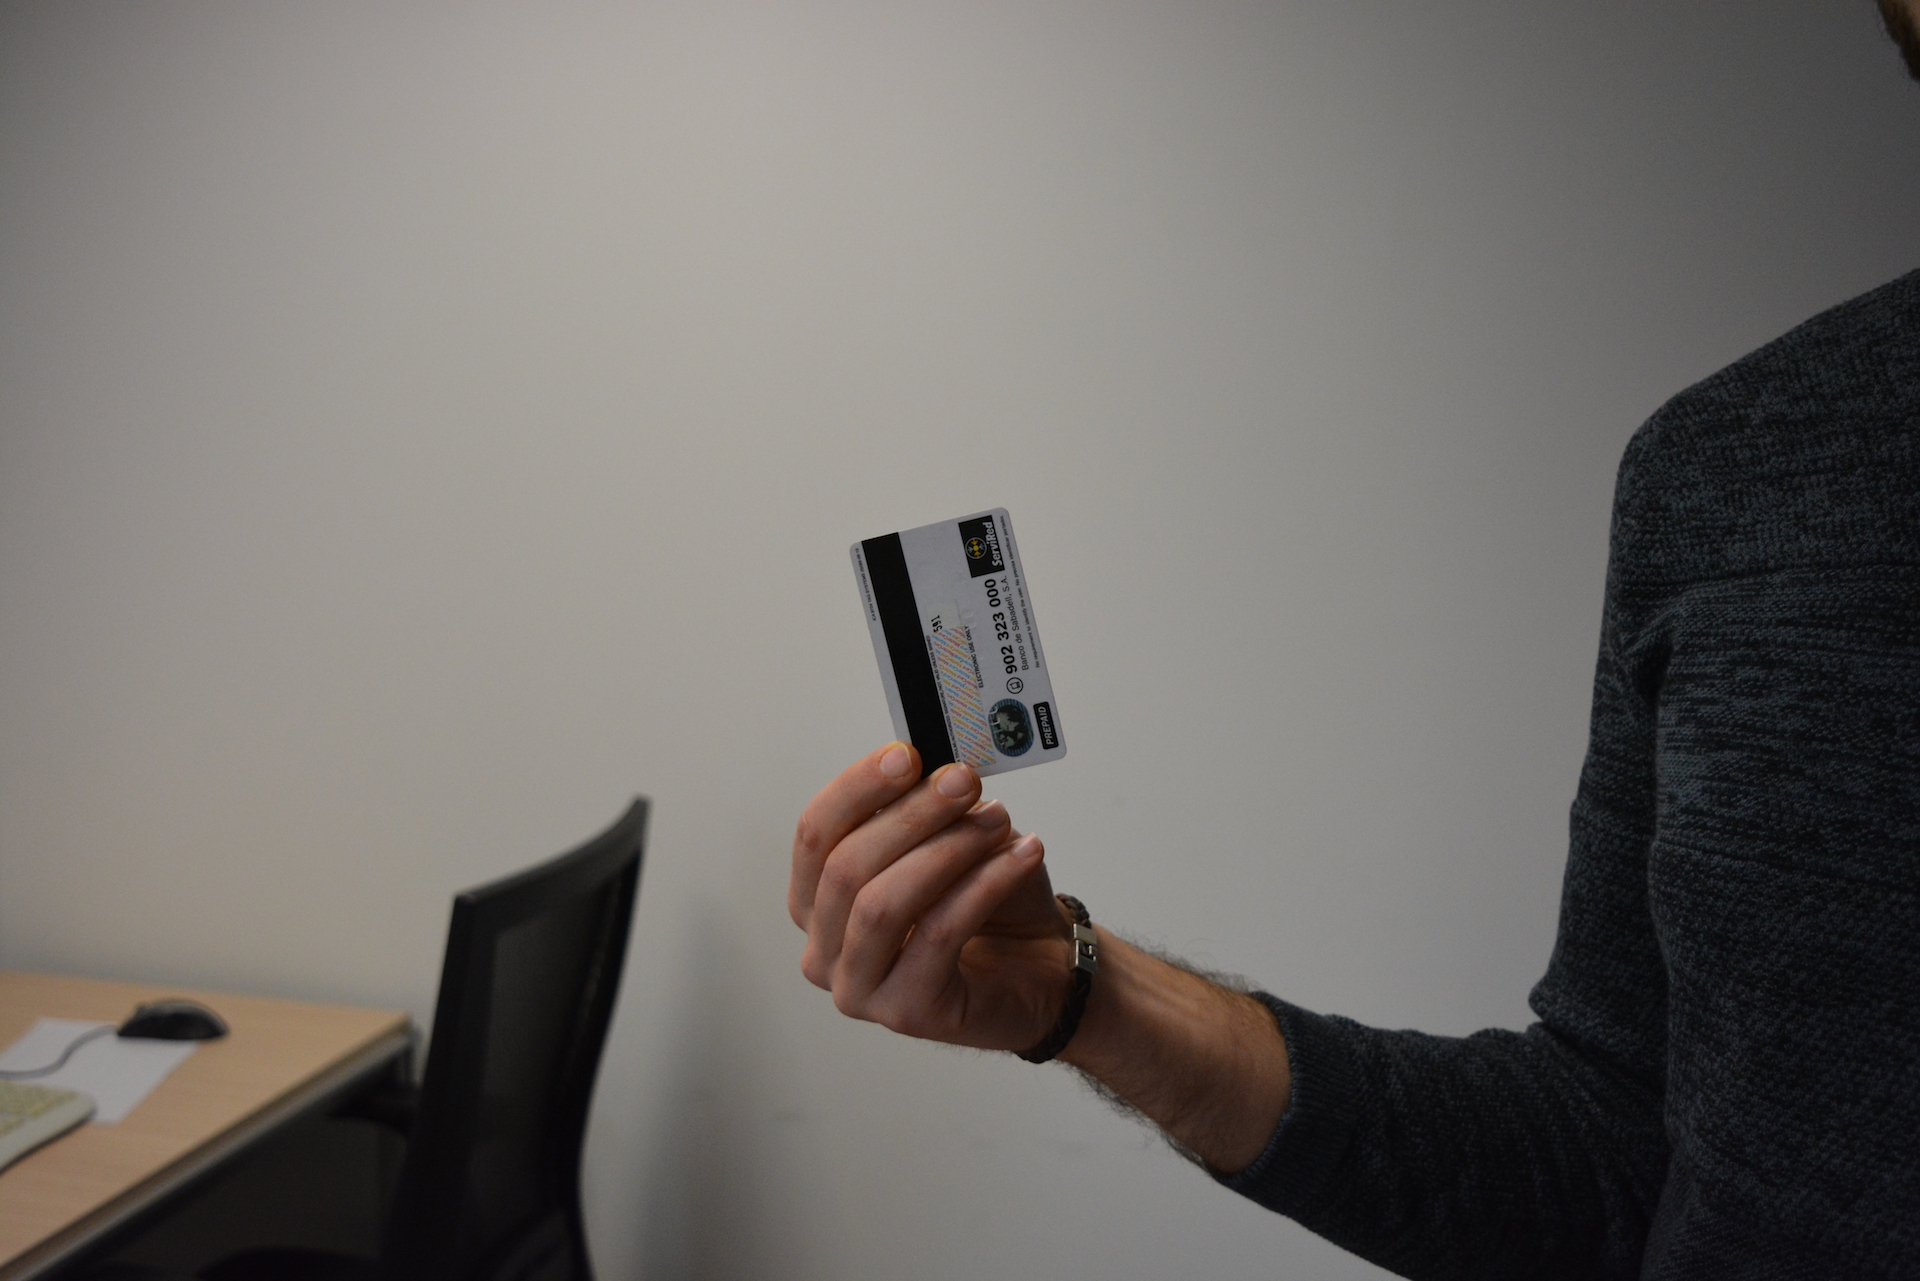tarjeta: (848, 506, 1069, 786)
